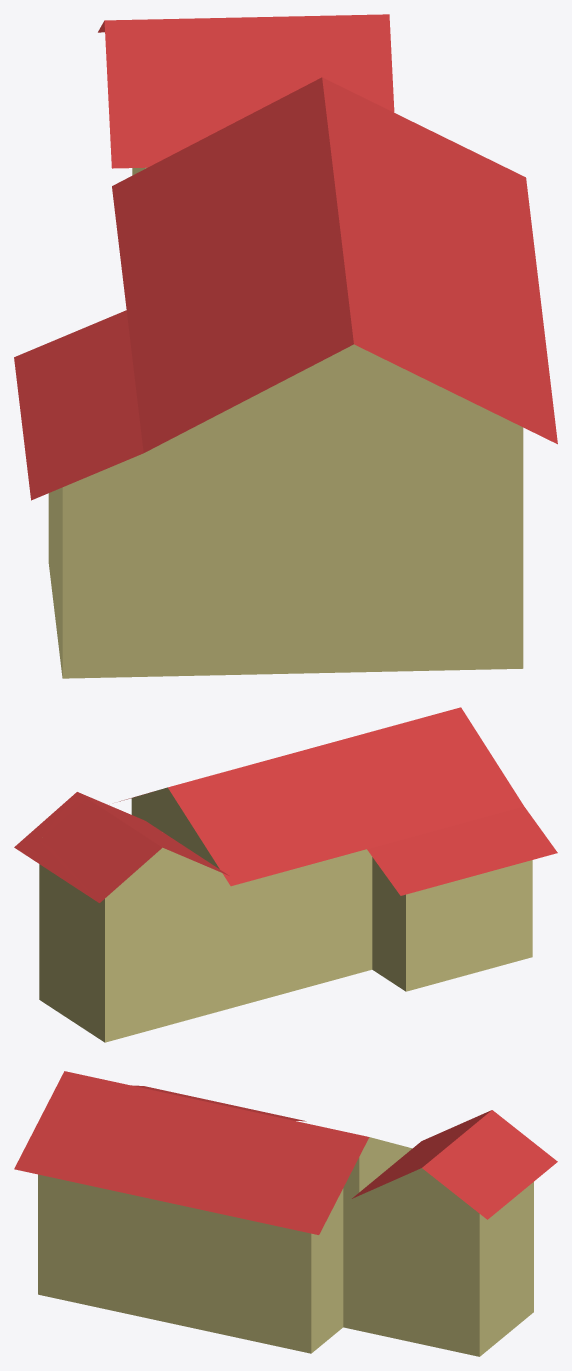
The picture shows the model from 3 angles, top to bottom: view 1: azimuth 30°, elevation 25°; view 2: azimuth 150°, elevation 25°; view 3: azimuth 270°, elevation 25°; orthographic projection. The views are drawn at different scales.
Bounding box in the file's own units: 23.32 × 30.34 × 11.4.
